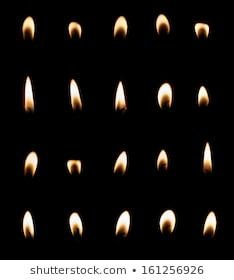fire: (22, 74, 36, 112), (68, 76, 83, 110), (157, 80, 174, 110), (113, 208, 130, 238), (22, 149, 40, 177), (19, 208, 35, 237), (113, 79, 127, 111), (202, 210, 218, 238), (112, 14, 128, 41), (20, 15, 37, 40), (112, 148, 128, 174), (200, 140, 212, 173), (154, 12, 170, 36), (155, 148, 169, 172), (195, 83, 209, 107), (65, 19, 82, 38)
